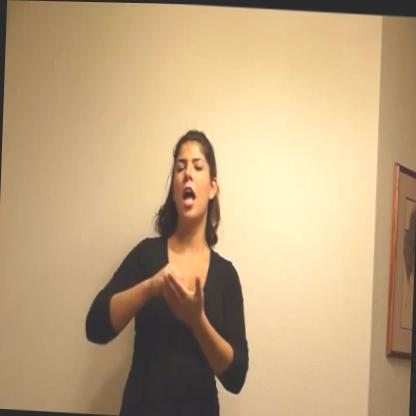Expensive: (128, 240, 220, 347)
